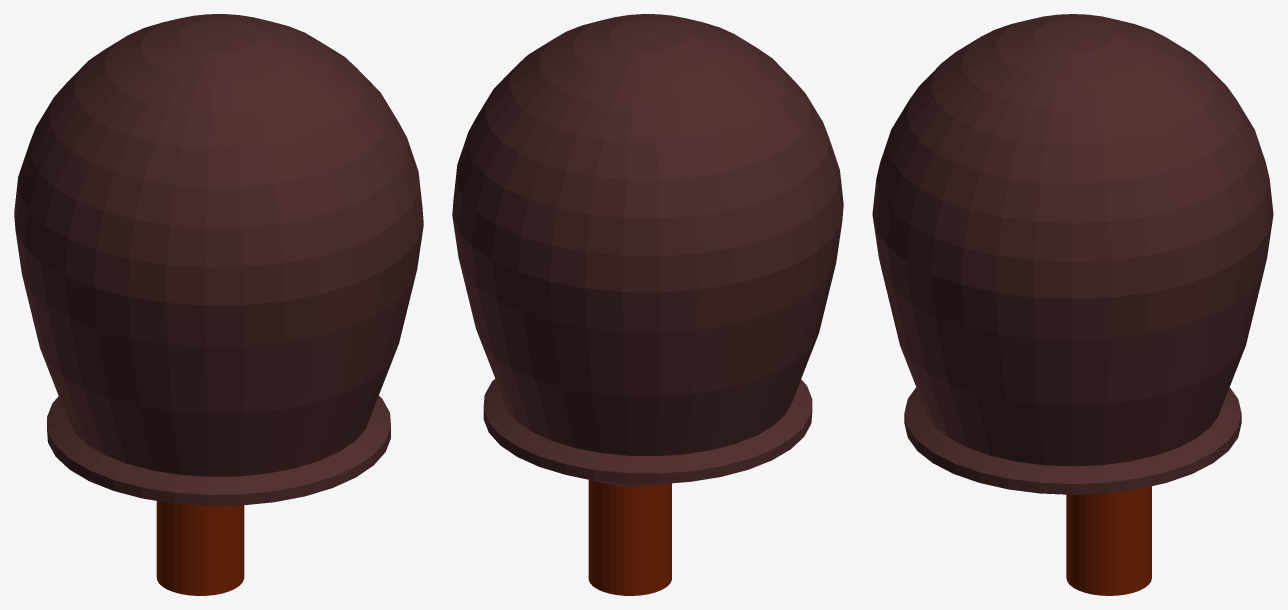
The model's file is nora_1c.obj.
The picture shows the model from 3 angles, left to right: view 1: azimuth 30°, elevation 25°; view 2: azimuth 150°, elevation 25°; view 3: azimuth 270°, elevation 25°; orthographic projection. The views are drawn at different scales.
Parts seen in each view (by area): view 1: body; view 2: body; view 3: body.
Boxes of the visible parts, left/top/right/bottom form: body: left=14, top=14, right=423, bottom=595; body: left=452, top=14, right=843, bottom=595; body: left=872, top=14, right=1273, bottom=595.
Bounding box in the file's own units: 2.04 × 3.05 × 2.04.
